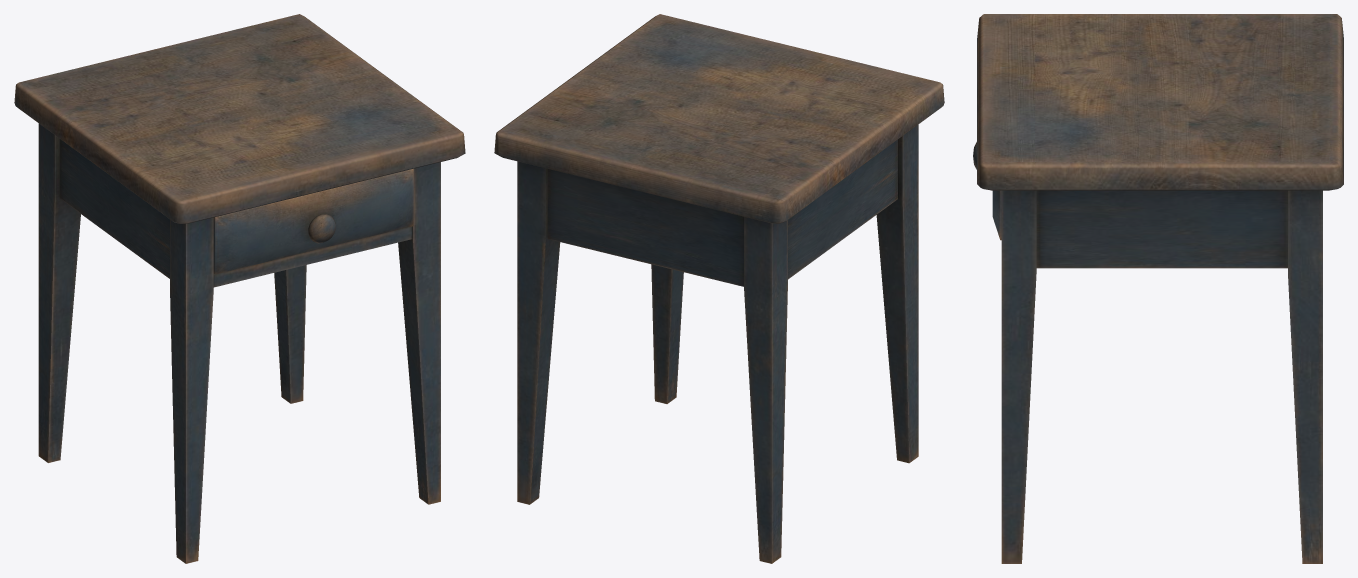
The model's file is mesa-de-luz-cajon.glb.
3 views of the same model, side by side, from view 1: azimuth 30°, elevation 25°; view 2: azimuth 150°, elevation 25°; view 3: azimuth 270°, elevation 25° (orthographic). The views are drawn at different scales.
Parts seen in each view (by area): view 1: painted_wooden_nightstand, painted_wooden_nightstand_drawer; view 2: painted_wooden_nightstand; view 3: painted_wooden_nightstand, painted_wooden_nightstand_drawer.
Part boxes in pixels (box(x1,y1,x2,y2)): painted_wooden_nightstand: box(14, 14, 465, 563); painted_wooden_nightstand_drawer: box(213, 168, 413, 274); painted_wooden_nightstand: box(494, 14, 944, 563); painted_wooden_nightstand: box(977, 14, 1343, 563); painted_wooden_nightstand_drawer: box(973, 142, 1001, 240).
Size of the model in its own units: 0.5046 by 0.6155 by 0.5087.
1 material, 1 textured.
